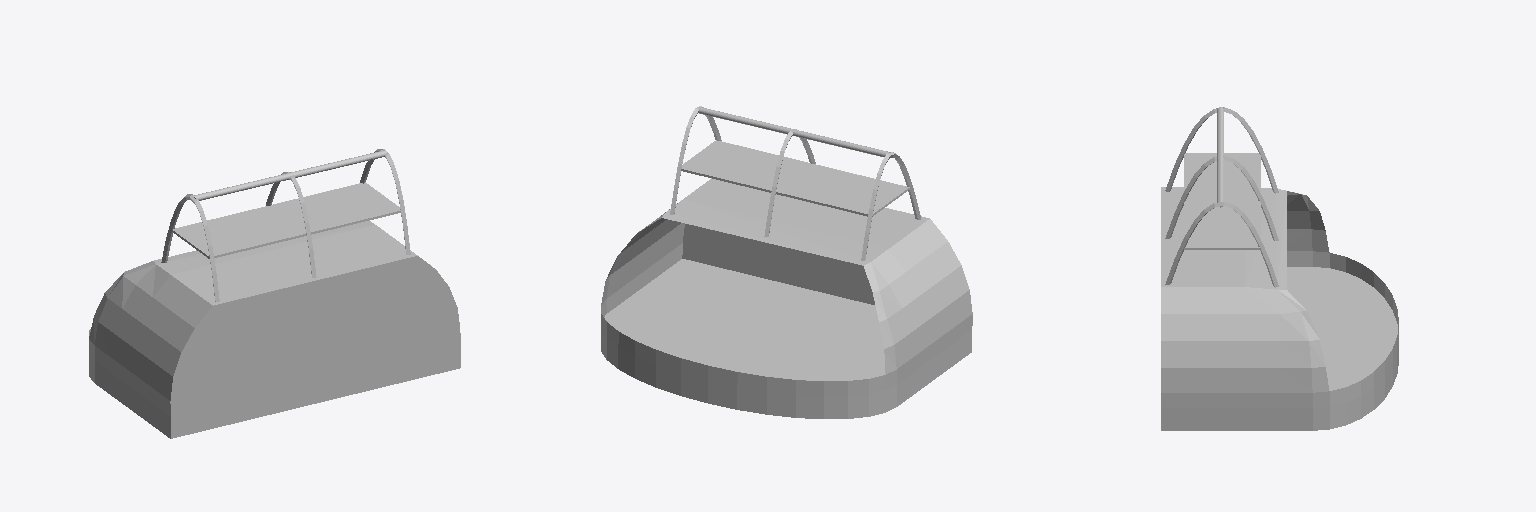
File: starbucks food viewer.obj
3 renders of one model, left to right at view 1: azimuth 30°, elevation 25°; view 2: azimuth 150°, elevation 25°; view 3: azimuth 270°, elevation 25°, orthographic.
Parts seen in each view (by area): view 1: Cylinder; view 2: Cylinder; view 3: Cylinder.
Boxes of the visible parts, x1=… form: Cylinder: x1=89, y1=149, x2=460, y2=438; Cylinder: x1=601, y1=106, x2=972, y2=418; Cylinder: x1=1161, y1=107, x2=1398, y2=430.
Bounding box in the file's own units: 12.34 × 8.46 × 8.78.